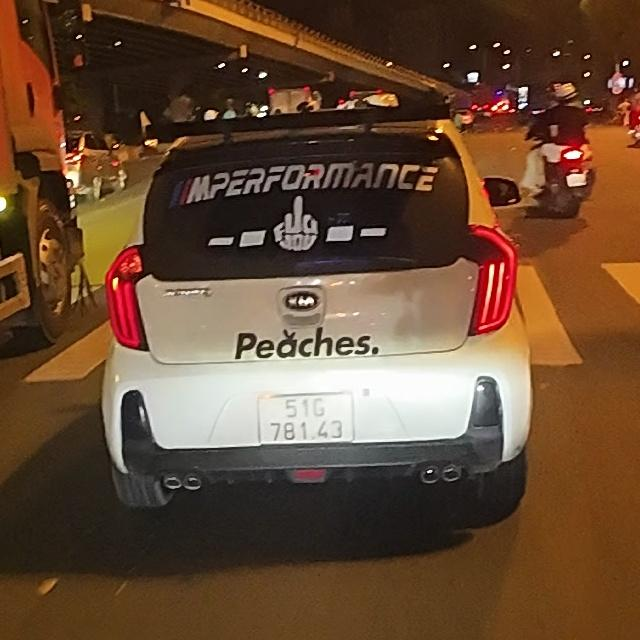license-plate: (258, 392, 353, 445)
